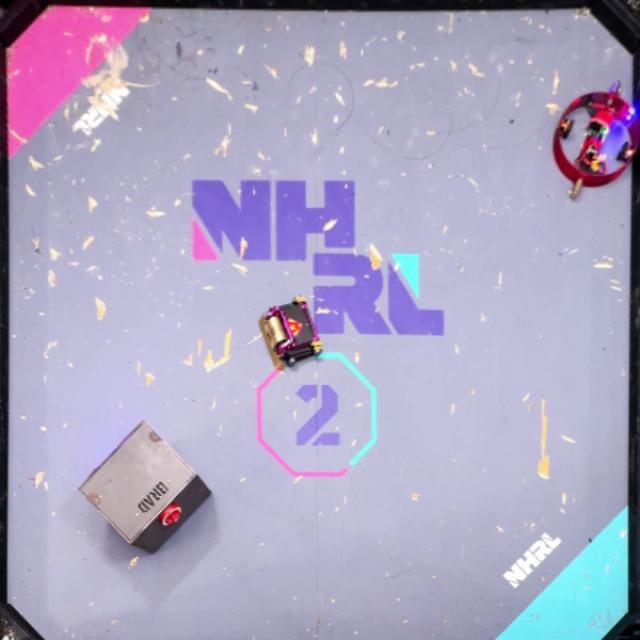housebot: (79, 420, 212, 552)
robot: (553, 81, 640, 197), (260, 294, 324, 370)
